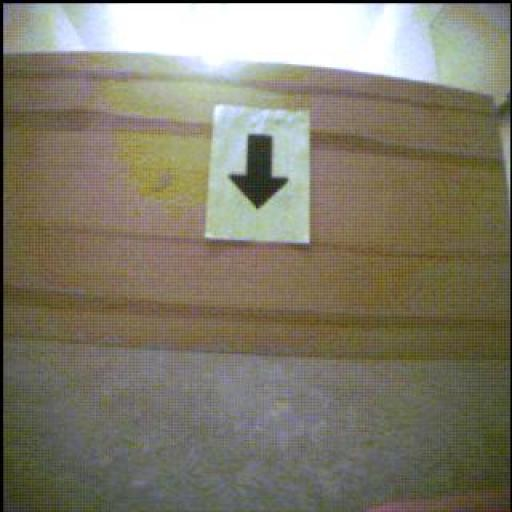Arrow: (230, 135, 289, 209)
